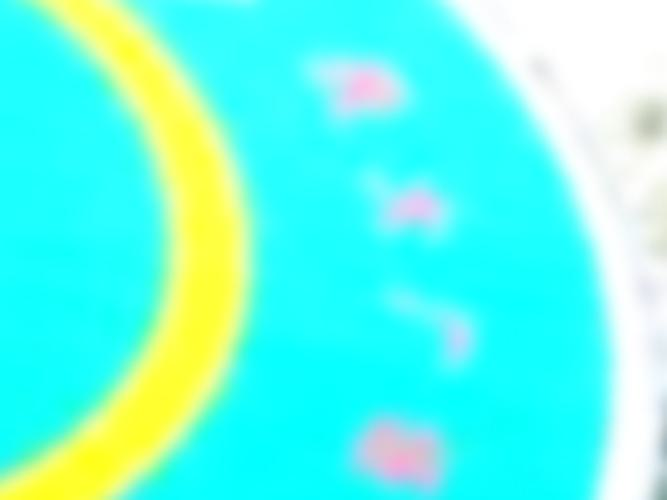Apron: (1, 1, 276, 496)
